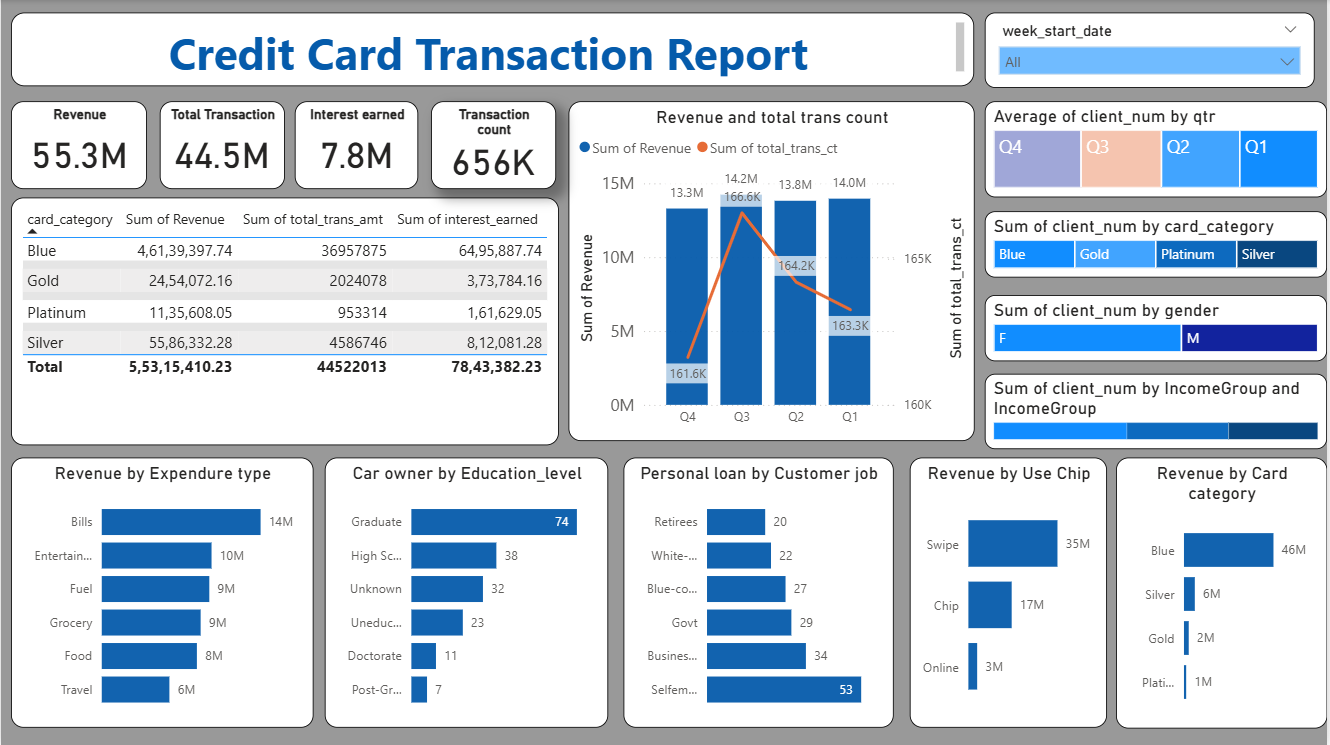

The page's visual inventory and layout, read from the dashboard file:
{"tool":"powerbi","page":{"name":"Credit card transaction report","canvas":[1280,720],"ordinal":0},"visuals":[{"type":"textbox","box":[9.9,12.3,930,71.5],"z":0},{"type":"lineStackedColumnComboChart","title":" Revenue and total trans count","fields":{"Category":["public cc_detail.qtr"],"Y":["Sum(public cc_detail.Revenue)"],"Y2":["Sum(public cc_detail.total_trans_ct)"]},"box":[547.7,97.7,392.1,328.2],"z":1000},{"type":"barChart","title":"Revenue by Expendure type","fields":{"Category":["public cc_detail.exp_type"],"Y":["Sum(public cc_detail.Revenue)"]},"box":[9.7,441.6,292,260.6],"z":2000},{"type":"barChart","title":"Personal loan by Customer job","fields":{"Category":["public cust_detail.customer_job"],"Y":["CountNonNull(public cust_detail.personal_loan)"]},"box":[600.8,441.6,260.6,260.6],"z":3000},{"type":"barChart","title":"Car owner by Education_level","fields":{"Category":["public cust_detail.education_level"],"Y":["CountNonNull(public cust_detail.car_owner)"]},"box":[312.5,441.6,273.9,260.6],"z":4000},{"type":"barChart","title":"Revenue by Card category","fields":{"Category":["public cc_detail.card_category"],"Y":["Sum(public cc_detail.Revenue)"]},"box":[1076.1,441.6,203.9,261.8],"z":5000},{"type":"barChart","title":"Revenue by Use Chip","fields":{"Category":["public cc_detail.use_chip"],"Y":["Sum(public cc_detail.Revenue)"]},"box":[877.1,441.6,190.6,260.6],"z":6000},{"type":"tableEx","fields":{"Values":["public cc_detail.card_category","Sum(public cc_detail.Revenue)","Sum(public cc_detail.total_trans_amt)","Sum(public cc_detail.interest_earned)"]},"box":[9.7,190.6,528.4,238.9],"z":7000},{"type":"card","title":"Revenue","fields":{"Values":["Sum(public cc_detail.Revenue)"]},"box":[9.7,97.7,131.5,84.5],"z":8000},{"type":"card","title":"Total Transaction","fields":{"Values":["Sum(public cc_detail.total_trans_amt)"]},"box":[153.2,97.7,120.6,84.5],"z":9000},{"type":"card","title":"Interest earned","fields":{"Values":["Sum(public cc_detail.interest_earned)"]},"box":[283.5,97.7,119.4,84.5],"z":10000},{"type":"card","title":"Transaction count","fields":{"Values":["Sum(public cc_detail.total_trans_ct)"]},"box":[415,97.7,120.6,84.5],"z":11000},{"type":"slicer","fields":{"Values":["public cc_detail.week_start_date"]},"box":[949.7,12.3,318.2,72.8],"z":12000},{"type":"treemap","fields":{"Group":["public cc_detail.qtr"],"Values":["Avg(public cc_detail.client_num)"]},"box":[949.7,97.4,330.5,92.5],"z":13000},{"type":"treemap","fields":{"Group":["public cust_detail.gender"],"Values":["Sum(public cust_detail.client_num)"]},"box":[949.7,284.9,330.5,64.1],"z":14000},{"type":"treemap","fields":{"Group":["public cc_detail.card_category"],"Values":["Sum(public cust_detail.client_num)"]},"box":[949.7,203.5,330.5,64.1],"z":15000},{"type":"treemap","fields":{"Group":["public cust_detail.IncomeGroup"],"Values":["Sum(public cust_detail.client_num)"],"Details":["public cust_detail.IncomeGroup"]},"box":[949.7,360.1,330.5,72.8],"z":16000}]}

Visuals, with their boxes in screenshot pixels (x1, y1, x2, y2), scaled from the page's 1280x720 canvas onto the 1330x745 screenshot:
textbox: 10,13,977,87
" Revenue and total trans count" lineStackedColumnComboChart: 569,101,977,441
"Revenue by Expendure type" barChart: 10,457,313,727
"Personal loan by Customer job" barChart: 624,457,895,727
"Car owner by Education_level" barChart: 325,457,609,727
"Revenue by Card category" barChart: 1118,457,1329,728
"Revenue by Use Chip" barChart: 911,457,1109,727
tableEx - public cc_detail.card_category x Sum(public cc_detail.Revenue): 10,197,559,444
"Revenue" card: 10,101,147,189
"Total Transaction" card: 159,101,284,189
"Interest earned" card: 295,101,419,189
"Transaction count" card: 431,101,557,189
slicer - public cc_detail.week_start_date: 987,13,1317,88
treemap - public cc_detail.qtr x Avg(public cc_detail.client_num): 987,101,1329,196
treemap - public cust_detail.gender x Sum(public cust_detail.client_num): 987,295,1329,361
treemap - public cc_detail.card_category x Sum(public cust_detail.client_num): 987,211,1329,277
treemap - public cust_detail.IncomeGroup x Sum(public cust_detail.client_num): 987,373,1329,448
